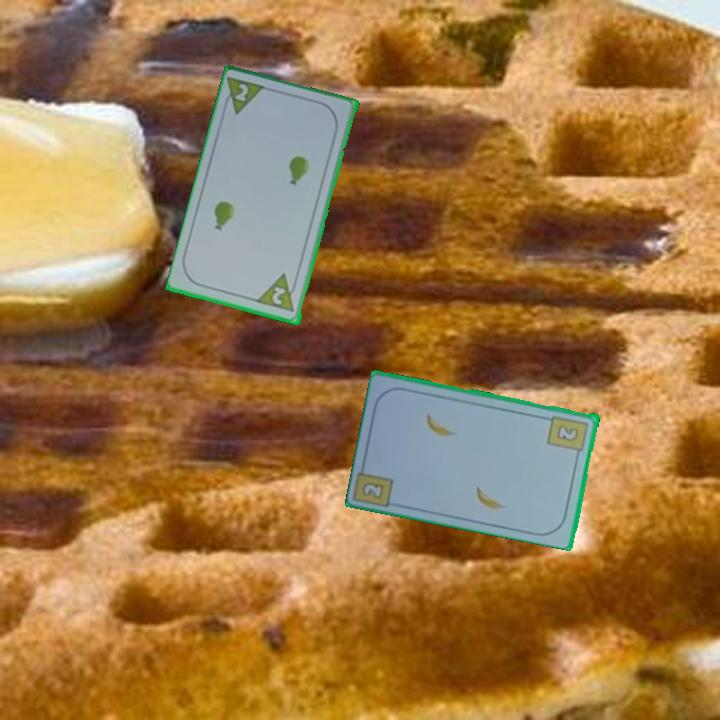2b: (544, 412, 591, 460), (358, 478, 387, 502)
2p: (268, 283, 289, 308), (232, 80, 252, 105)
